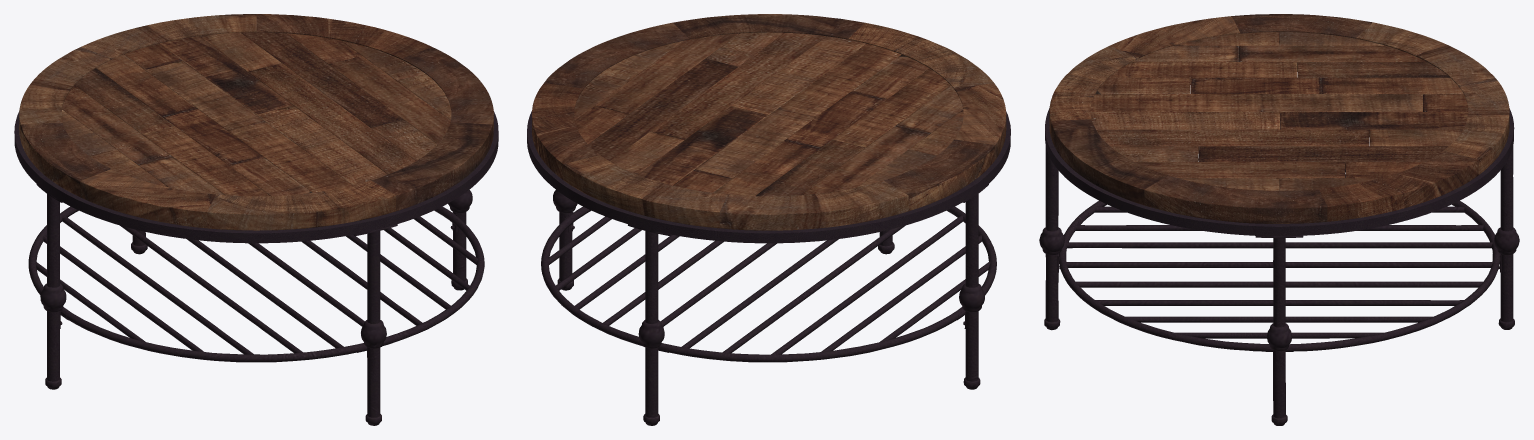
File: south teton.fbx
3 views of the same model, side by side, from view 1: azimuth 30°, elevation 25°; view 2: azimuth 150°, elevation 25°; view 3: azimuth 270°, elevation 25° (orthographic). The views are drawn at different scales.
Parts seen in each view (by area): view 1: Component1, Component4_1; view 2: Component1, Component4_1; view 3: Component1, Component4_1.
Part boxes in pixels (left/top/right/bottom): Component1: left=19, top=14, right=493, bottom=230; Component4_1: left=14, top=111, right=498, bottom=425; Component1: left=532, top=14, right=1006, bottom=230; Component4_1: left=527, top=111, right=1010, bottom=425; Component1: left=1049, top=14, right=1509, bottom=223; Component4_1: left=1039, top=108, right=1519, bottom=425.
Bounding box in the file's own units: 35.98 × 17.99 × 35.98.
